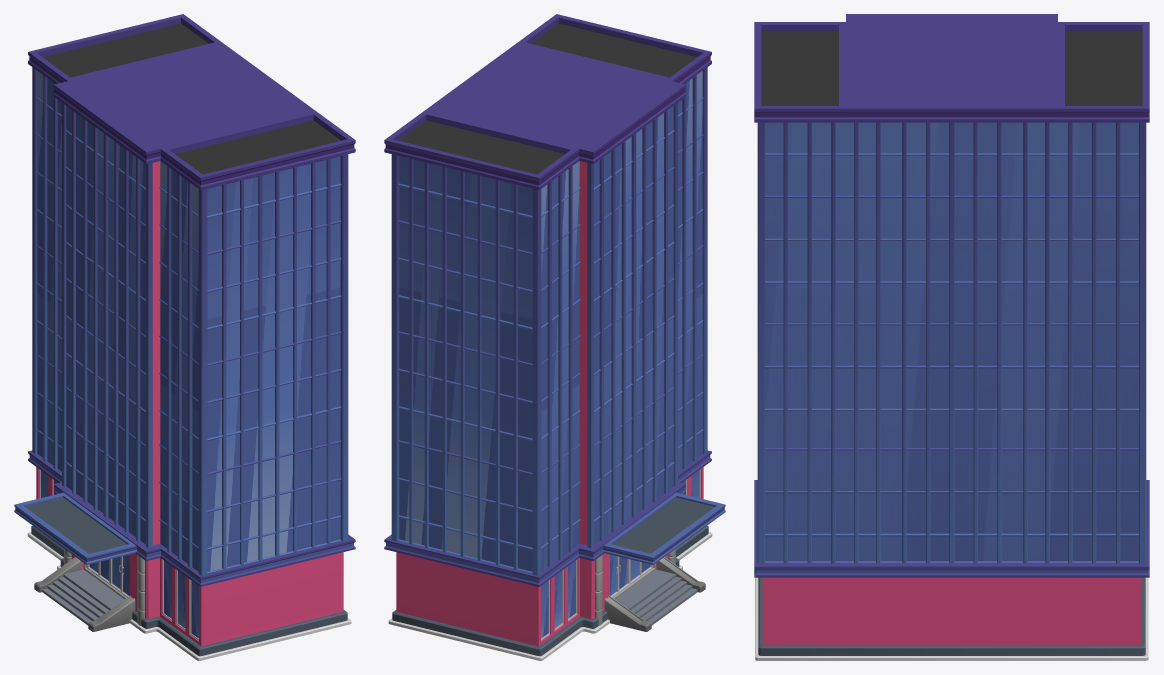
Rendered from Building_17_2_E.glb.
3 renders of one model, left to right at view 1: azimuth 30°, elevation 25°; view 2: azimuth 150°, elevation 25°; view 3: azimuth 270°, elevation 25°, orthographic. The views are drawn at different scales.
Parts seen in each view (by area): view 1: Building_17_2_E; view 2: Building_17_2_E; view 3: Building_17_2_E.
Part boxes in pixels (x1,y1,x2,y2): Building_17_2_E: (14, 14, 355, 660); Building_17_2_E: (384, 14, 725, 660); Building_17_2_E: (754, 14, 1149, 660).
Bounding box in the file's own units: 8.57 × 18.05 × 11.68.
Materials: 4 (4 with a texture image).
